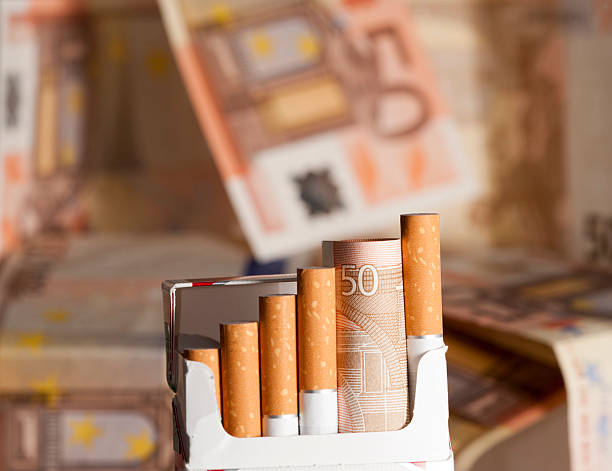cigarette: (159, 272, 457, 471), (400, 211, 444, 419), (295, 266, 338, 436), (257, 293, 299, 436), (220, 320, 261, 437), (182, 346, 222, 422)
